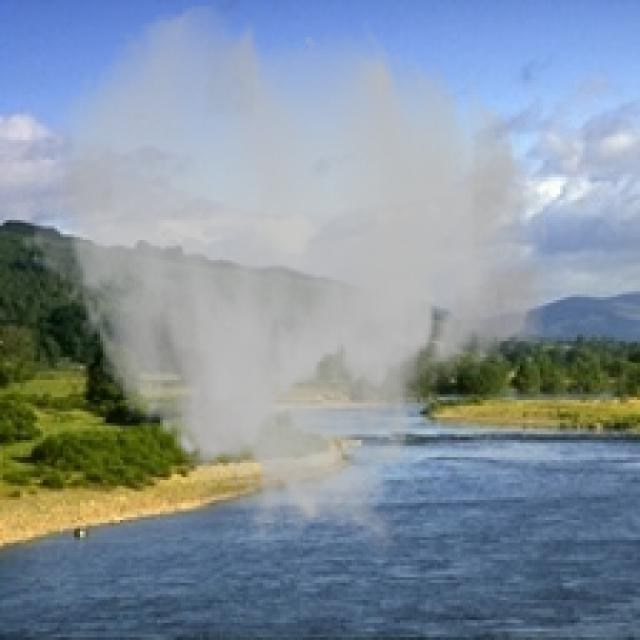smoke: (20, 0, 554, 560)
